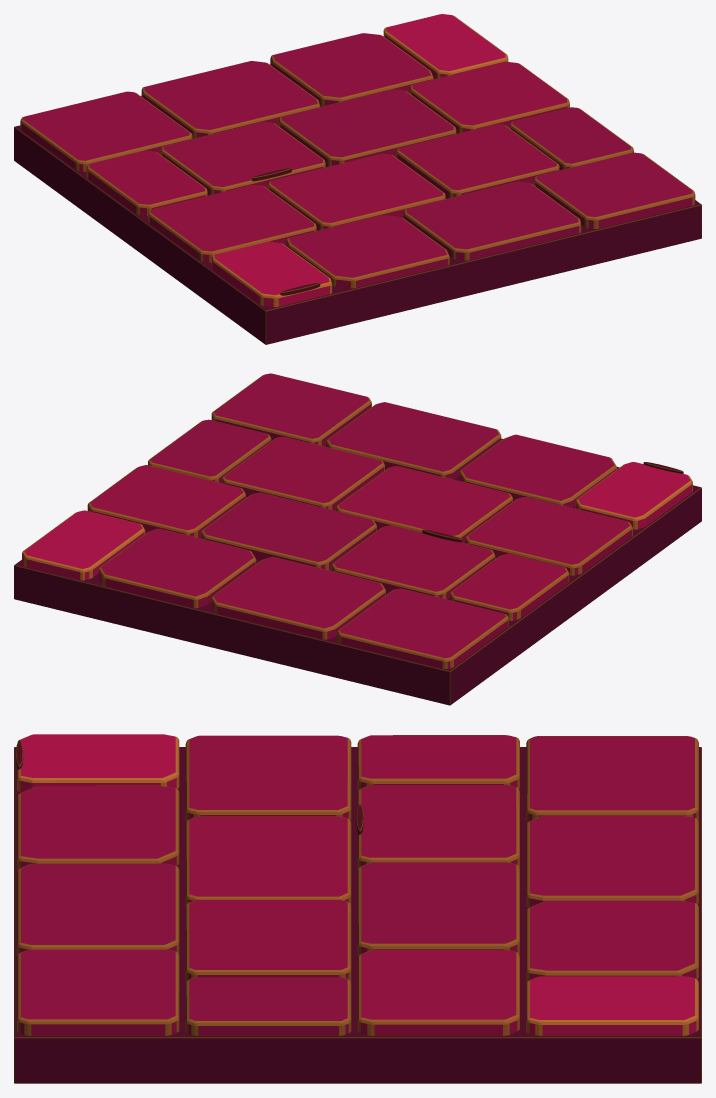
The model's file is SM_RV_Tile.fbx.
3 views of the same model, one above another, from view 1: azimuth 30°, elevation 25°; view 2: azimuth 150°, elevation 25°; view 3: azimuth 270°, elevation 25° (orthographic). The views are drawn at different scales.
Parts seen in each view (by area): view 1: SM_RV_Tile; view 2: SM_RV_Tile; view 3: SM_RV_Tile.
Boxes of the visible parts, x1,y1,x2,y2 form: SM_RV_Tile: [14, 14, 701, 344]; SM_RV_Tile: [14, 373, 701, 705]; SM_RV_Tile: [14, 734, 701, 1083].
Size of what is drawn, in the model's own units: 200 by 200 by 20.8.
